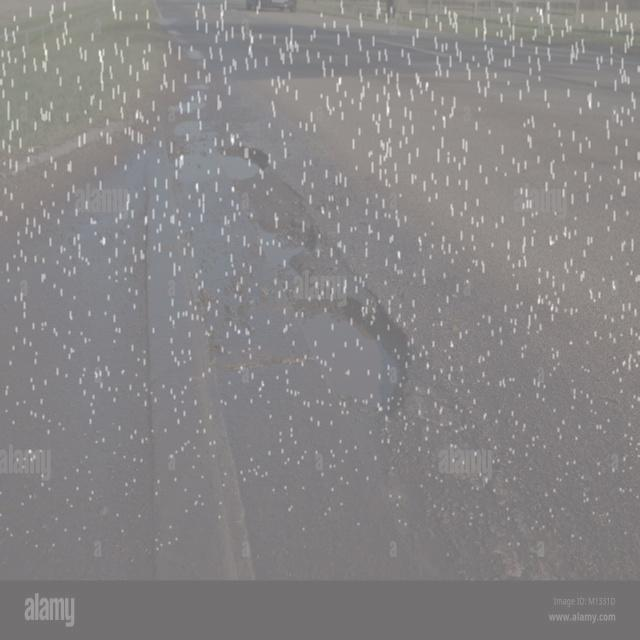Pothole: (272, 285, 436, 456), (237, 184, 326, 288), (204, 138, 283, 189)
